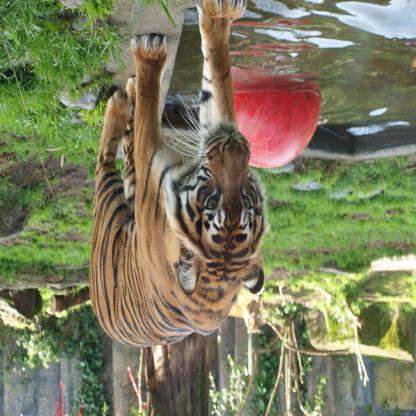tiger: (167, 123, 281, 297)
